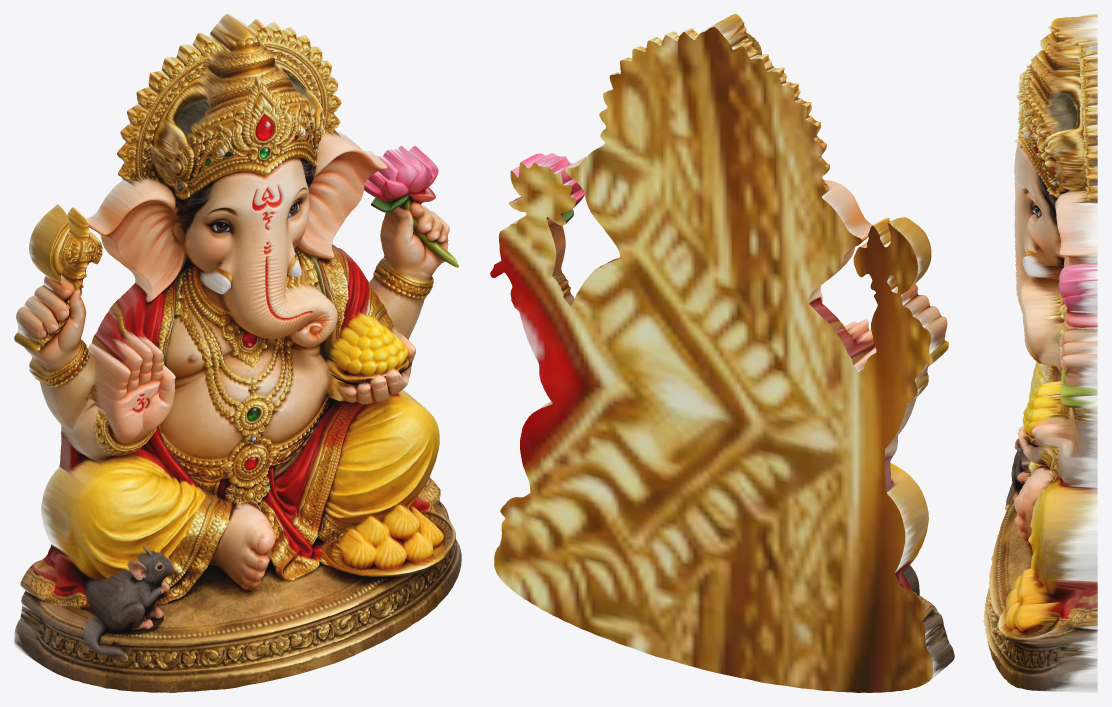
The model's file is ganesh_ji_new.glb.
3 views of the same model, side by side, from view 1: azimuth 30°, elevation 25°; view 2: azimuth 150°, elevation 25°; view 3: azimuth 270°, elevation 25° (orthographic). The views are drawn at different scales.
Visible parts, largest first — view 1: ImagePlane_TrueDepthMaterial_0; view 2: ImagePlane_TrueDepthMaterial_0; view 3: ImagePlane_TrueDepthMaterial_0.
Boxes of the visible parts, x1,y1,x2,y2 form: ImagePlane_TrueDepthMaterial_0: [14, 14, 461, 692]; ImagePlane_TrueDepthMaterial_0: [490, 14, 954, 692]; ImagePlane_TrueDepthMaterial_0: [983, 14, 1097, 692].
Bounding box in the file's own units: 0.6451 × 0.8987 × 0.1514.
1 material, 1 textured.
